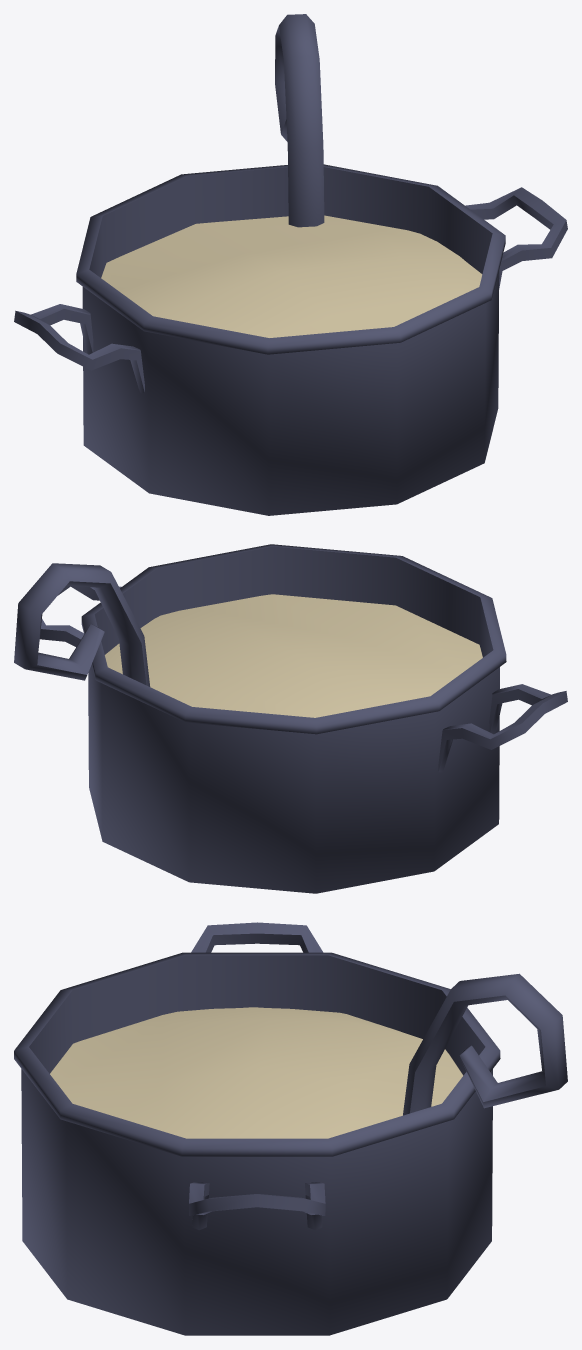
Rendered from DeepPanStew.fbx.
The picture shows the model from 3 angles, top to bottom: view 1: azimuth 30°, elevation 25°; view 2: azimuth 150°, elevation 25°; view 3: azimuth 270°, elevation 25°; orthographic projection. The views are drawn at different scales.
Parts seen in each view (by area): view 1: DeepPanStew; view 2: DeepPanStew; view 3: DeepPanStew.
Part boxes in pixels (bbox=[...]): DeepPanStew: bbox=[14, 14, 567, 515]; DeepPanStew: bbox=[14, 544, 567, 893]; DeepPanStew: bbox=[14, 922, 567, 1335].
Bounding box in the file's own units: 127 × 70.81 × 108.
